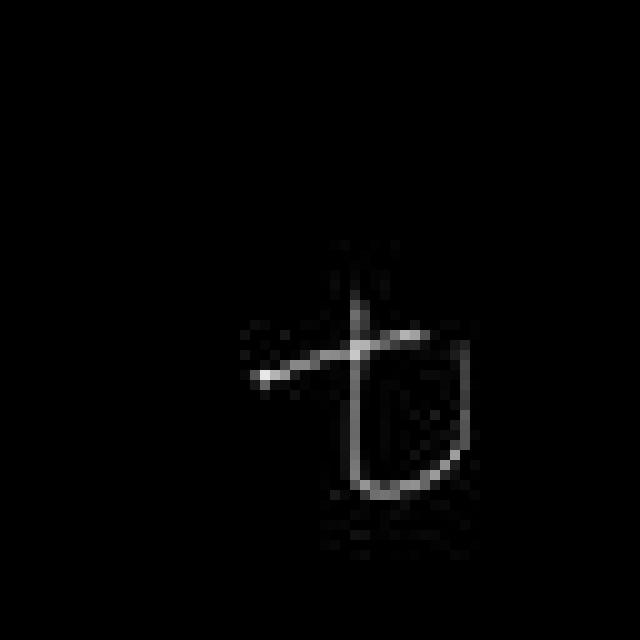7 -seven-: (243, 286, 482, 506)
